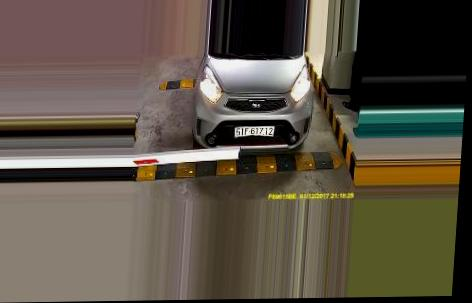License_Plate: (230, 123, 280, 142)
